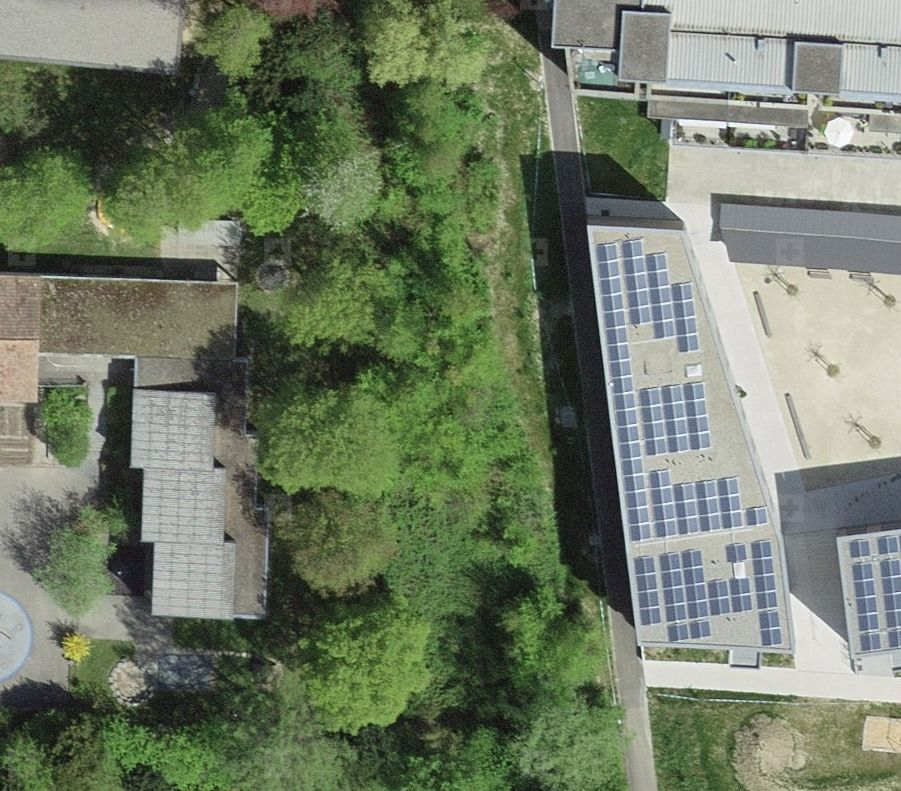solar: (594, 236, 785, 647), (847, 533, 901, 651)
